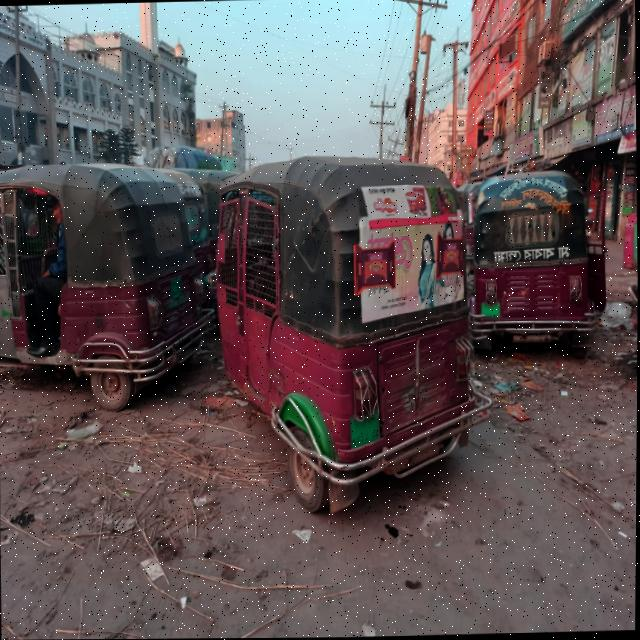cng: (186, 131, 496, 570), (0, 141, 209, 418), (456, 152, 588, 381)
